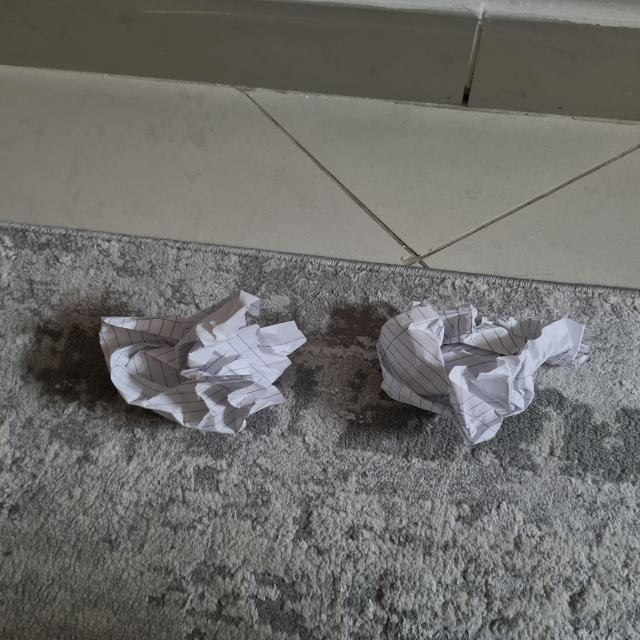kertas: (372, 297, 583, 448), (99, 290, 304, 434)
